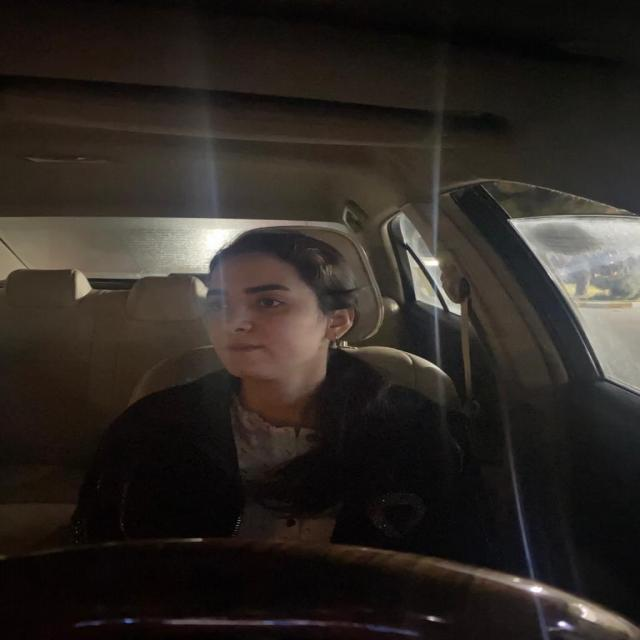person: (192, 244, 345, 386)
